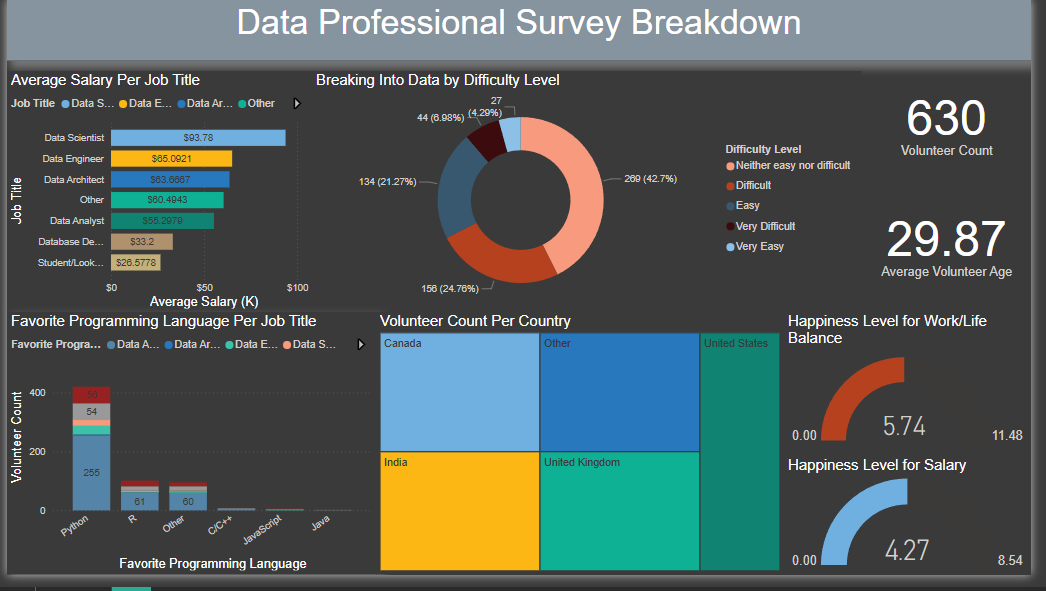

The dashboard page shown, as its layout file describes it:
{"tool":"powerbi","page":{"name":"Page 1","canvas":[1280,720],"ordinal":0},"visuals":[{"type":"card","fields":{"Values":["Count(Data Professional Survey.Unique ID)"]},"box":[1068.3,90,211.7,125],"z":0},{"type":"textbox","box":[0,0,1280,76.7],"z":1000},{"type":"card","fields":{"Values":["Avg(Data Professional Survey.Q10 - Current Age)"]},"box":[1068.3,215,211.7,176.7],"z":2000},{"type":"barChart","title":"Average Salary Per Job Title","fields":{"Category":["Data Professional Survey.Q1 - Which Title Best Fits your Current Role?.1"],"Y":["Avg(Data Professional Survey.Average Salary(K))"],"Series":["Data Professional Survey.Q1 - Which Title Best Fits your Current Role?.1"]},"box":[0,90,381.7,301.7],"z":3000},{"type":"gauge","fields":{"Y":["Avg(Data Professional Survey.Q6 - How Happy are you in your Current Position with the following? (Work/Life Balance))"]},"box":[971.7,391.7,308.3,180],"z":4000},{"type":"gauge","fields":{"Y":["Avg(Data Professional Survey.Q6 - How Happy are you in your Current Position with the following? (Salary))"]},"box":[971.7,571.7,308.3,148.3],"z":5000},{"type":"donutChart","fields":{"Y":["Count(Data Professional Survey.Unique ID)"],"Category":["Data Professional Survey.Q7 - How difficult was it for you to break into Data?"]},"box":[381.7,90,686.7,301.7],"z":6000},{"type":"columnChart","title":"Favorite Programming Language Per Job Title","fields":{"Y":["Count(Data Professional Survey.Unique ID)"],"Category":["Data Professional Survey.Q5 - Favorite Programming Language.1"],"Series":["Data Professional Survey.Q1 - Which Title Best Fits your Current Role?.1"]},"box":[0,391.7,461.7,328.3],"z":7000},{"type":"treemap","title":"Volunteer Count Per Country","fields":{"Values":["Count(Data Professional Survey.Q11 - Which Country do you live in?.1)"],"Group":["Data Professional Survey.Q11 - Which Country do you live in?.1"]},"box":[461.7,391.7,510,328.3],"z":8000}]}

Visuals, with their boxes in screenshot pixels (x1, y1, x2, y2), scaled from the page's 1280x720 canvas onto the 1046x591 screenshot:
card - Count(Data Professional Survey.Unique ID): 873/74/1045/176
textbox: 0/0/1045/63
card - Avg(Data Professional Survey.Q10 - Current Age): 873/176/1045/322
"Average Salary Per Job Title" barChart: 0/74/312/322
gauge - Avg(Data Professional Survey.Q6 - How Happy are you in your Current Position with the following? (Work/Life Balance)): 794/322/1045/469
gauge - Avg(Data Professional Survey.Q6 - How Happy are you in your Current Position with the following? (Salary)): 794/469/1045/590
donutChart - Count(Data Professional Survey.Unique ID) x Data Professional Survey.Q7 - How difficult was it for you to break into Data?: 312/74/873/322
"Favorite Programming Language Per Job Title" columnChart: 0/322/377/590
"Volunteer Count Per Country" treemap: 377/322/794/590
